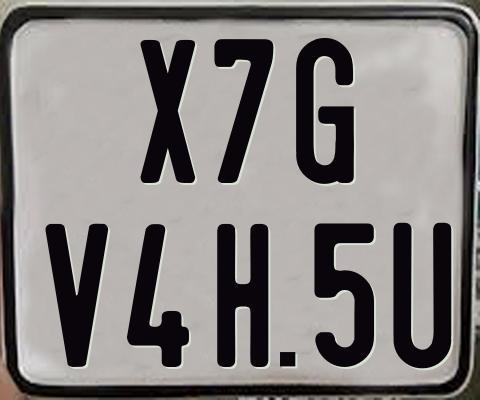4: (126, 224, 188, 367)
5: (312, 221, 377, 368)
7: (211, 36, 274, 180)
G: (295, 37, 353, 183)
H: (217, 224, 274, 369)
U: (390, 223, 450, 373)
V: (43, 221, 106, 369)
X: (139, 37, 194, 181)
